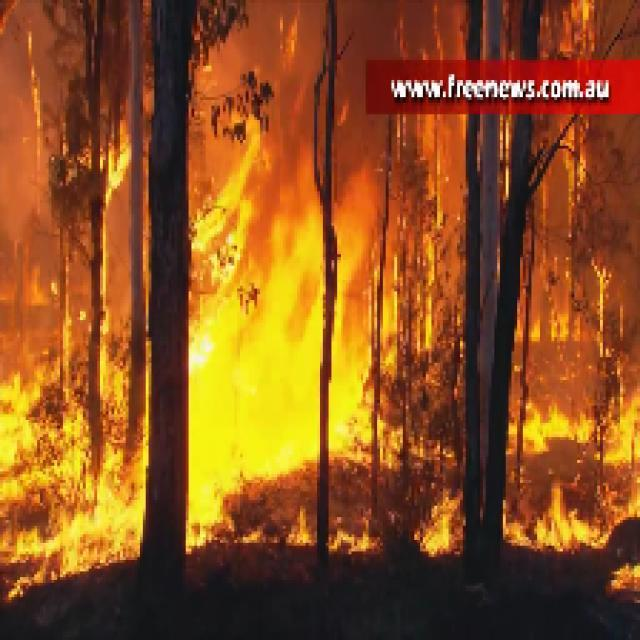Fire: (186, 63, 326, 540), (3, 334, 140, 580), (508, 486, 603, 546)
Smoke: (3, 2, 66, 258)
